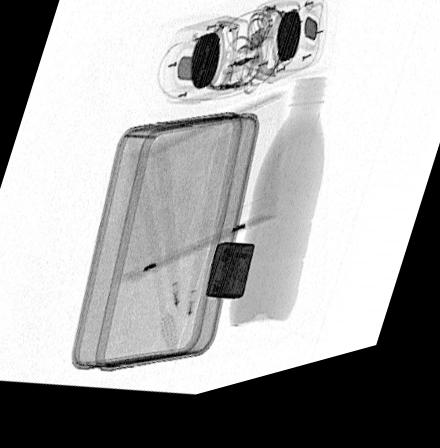Lighter: (204, 253, 255, 312)
